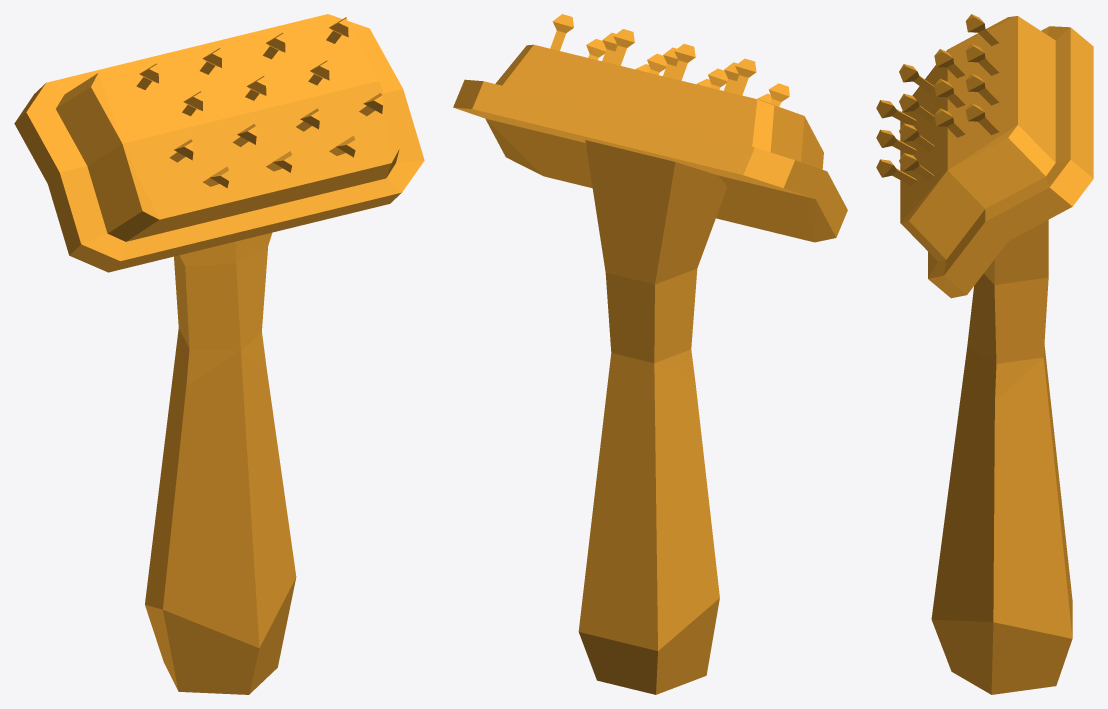
File: SM_Cat_Brush.fbx
3 renders of one model, left to right at view 1: azimuth 30°, elevation 25°; view 2: azimuth 150°, elevation 25°; view 3: azimuth 270°, elevation 25°, orthographic. The views are drawn at different scales.
Visible parts, largest first — view 1: Cat_Brush; view 2: Cat_Brush; view 3: Cat_Brush.
Part boxes in pixels (left/top/right/bottom): Cat_Brush: left=14, top=14, right=424, bottom=694; Cat_Brush: left=453, top=14, right=847, bottom=694; Cat_Brush: left=876, top=14, right=1093, bottom=694.
Bounding box in the file's own units: 0.1201 × 0.2146 × 0.0685.
